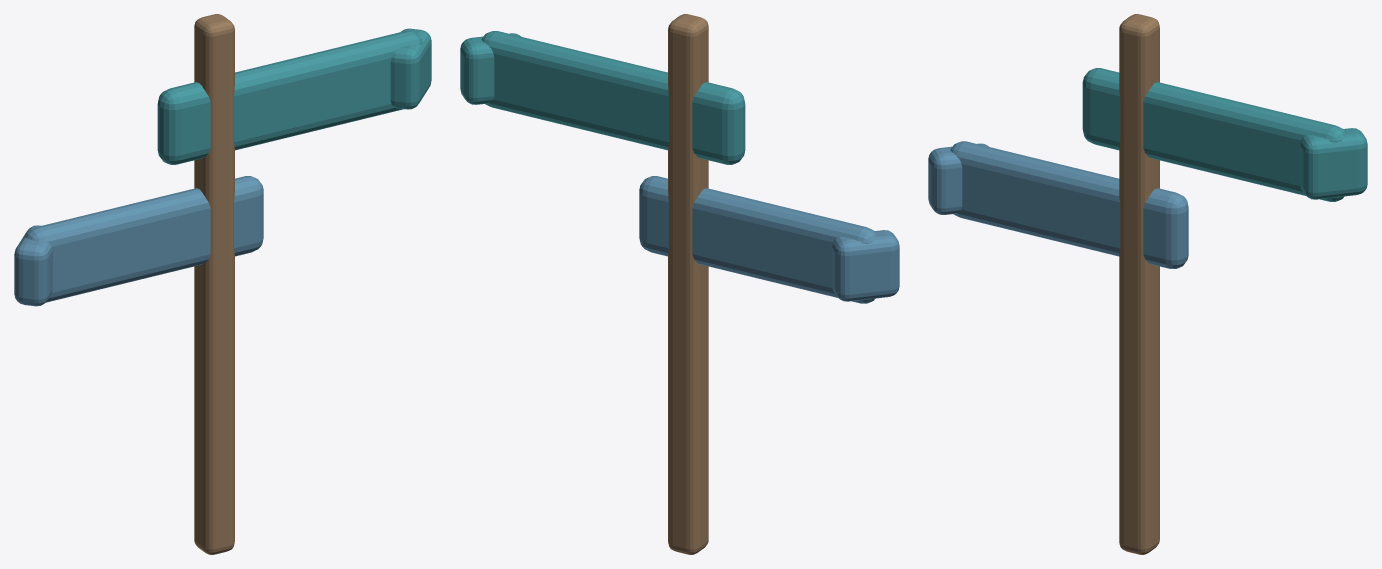
The picture shows the model from 3 angles, left to right: view 1: azimuth 30°, elevation 25°; view 2: azimuth 150°, elevation 25°; view 3: azimuth 330°, elevation 25°; orthographic projection.
Visible parts, largest first — view 1: LOD0_SIGN_WAYFINDING_Pole, LOD0_SIGN_WAYFINDING_ArrowA, LOD0_SIGN_WAYFINDING_ArrowB, LOD0_SIGN_WAYFINDING_TipA, LOD0_SIGN_WAYFINDING_TipB; view 2: LOD0_SIGN_WAYFINDING_Pole, LOD0_SIGN_WAYFINDING_ArrowA, LOD0_SIGN_WAYFINDING_ArrowB, LOD0_SIGN_WAYFINDING_TipB, LOD0_SIGN_WAYFINDING_TipA; view 3: LOD0_SIGN_WAYFINDING_Pole, LOD0_SIGN_WAYFINDING_ArrowB, LOD0_SIGN_WAYFINDING_ArrowA, LOD0_SIGN_WAYFINDING_TipA, LOD0_SIGN_WAYFINDING_TipB.
Part boxes in pixels (box(x1,y1,x2,y2)): LOD0_SIGN_WAYFINDING_Pole: box(194, 14, 234, 554); LOD0_SIGN_WAYFINDING_ArrowA: box(157, 31, 422, 164); LOD0_SIGN_WAYFINDING_ArrowB: box(24, 176, 263, 302); LOD0_SIGN_WAYFINDING_TipA: box(390, 28, 431, 109); LOD0_SIGN_WAYFINDING_TipB: box(14, 225, 52, 306); LOD0_SIGN_WAYFINDING_Pole: box(668, 14, 708, 554); LOD0_SIGN_WAYFINDING_ArrowA: box(481, 31, 745, 164); LOD0_SIGN_WAYFINDING_ArrowB: box(639, 176, 877, 303); LOD0_SIGN_WAYFINDING_TipB: box(832, 230, 899, 301); LOD0_SIGN_WAYFINDING_TipA: box(460, 33, 520, 104); LOD0_SIGN_WAYFINDING_Pole: box(1119, 14, 1159, 554); LOD0_SIGN_WAYFINDING_ArrowB: box(950, 141, 1188, 268); LOD0_SIGN_WAYFINDING_ArrowA: box(1082, 68, 1346, 201); LOD0_SIGN_WAYFINDING_TipA: box(1300, 128, 1367, 199); LOD0_SIGN_WAYFINDING_TipB: box(928, 143, 988, 214).
Size of what is drawn, in the model's own units: 2.52 by 3 by 0.318.
